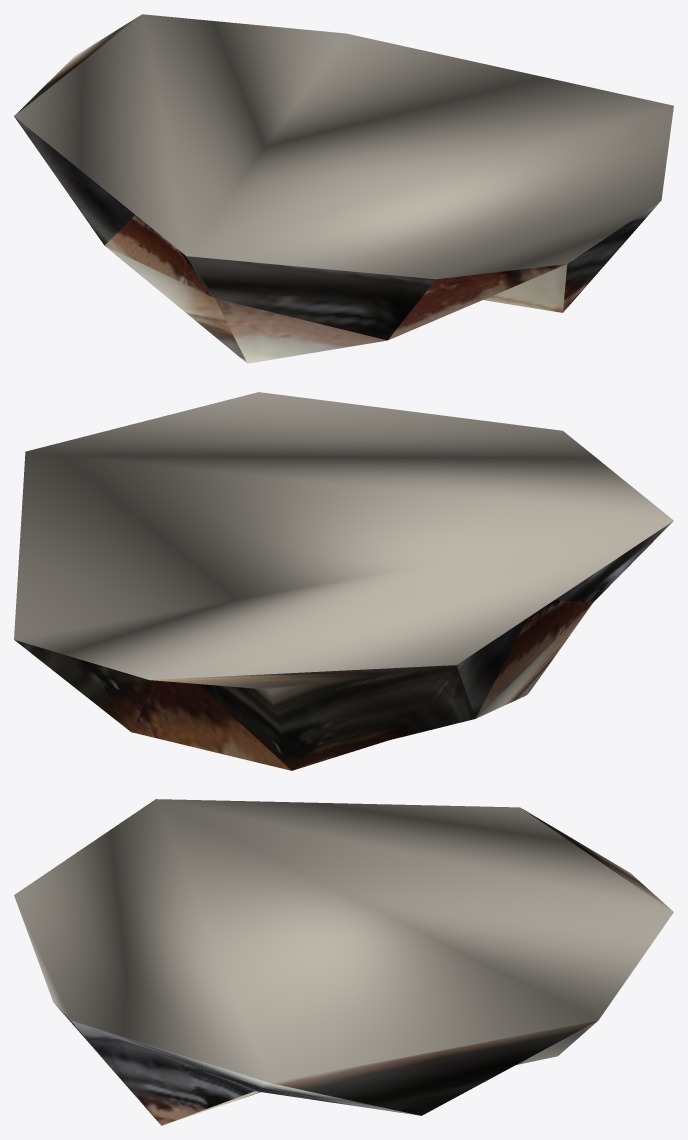
Rendered from cake_44.obj.
3 views of the same model, one above another, from view 1: azimuth 30°, elevation 25°; view 2: azimuth 150°, elevation 25°; view 3: azimuth 270°, elevation 25° (orthographic). The views are drawn at different scales.
Size of the model in its own units: 0.163 by 0.0459 by 0.1757.
1 material, 1 textured.
